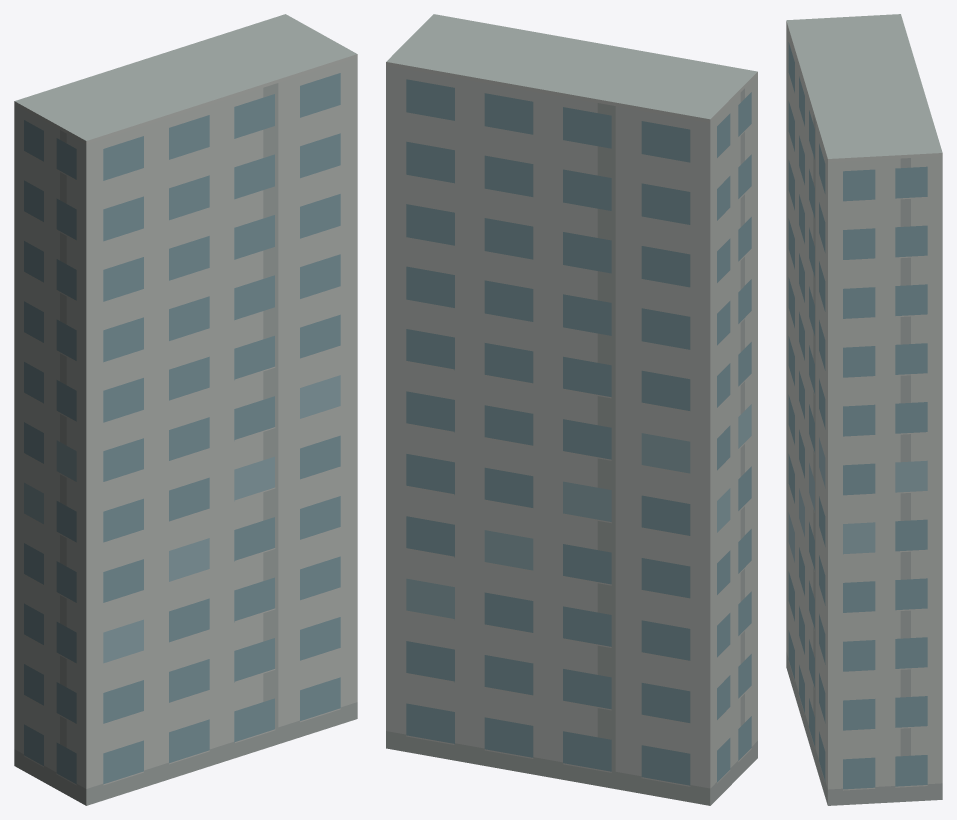
File: residential-18dbbd8e-76b8-432f-bbe0-d83e39d6a2aa.glb
3 renders of one model, left to right at view 1: azimuth 30°, elevation 25°; view 2: azimuth 150°, elevation 25°; view 3: azimuth 270°, elevation 25°, orthographic. The views are drawn at different scales.
Visible parts, largest first — view 1: residential-18dbbd8e-76b8-432f-bbe0-d83e39d6a2aa.tmp; view 2: residential-18dbbd8e-76b8-432f-bbe0-d83e39d6a2aa.tmp; view 3: residential-18dbbd8e-76b8-432f-bbe0-d83e39d6a2aa.tmp.
Part boxes in pixels (<box>): residential-18dbbd8e-76b8-432f-bbe0-d83e39d6a2aa.tmp: <box>14,14,357,805</box>; residential-18dbbd8e-76b8-432f-bbe0-d83e39d6a2aa.tmp: <box>386,14,757,805</box>; residential-18dbbd8e-76b8-432f-bbe0-d83e39d6a2aa.tmp: <box>786,14,942,805</box>.
Bounding box in the file's own units: 22.61 × 47 × 10.31.
